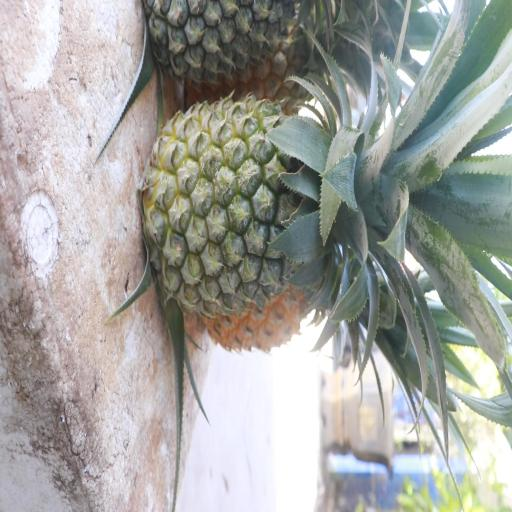------------------------------: (146, 99, 336, 312)
